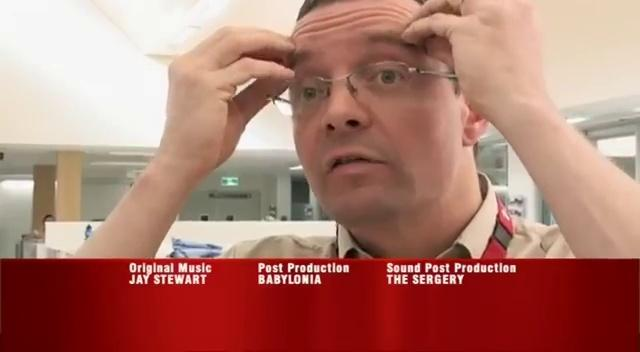others: (68, 1, 637, 261)
